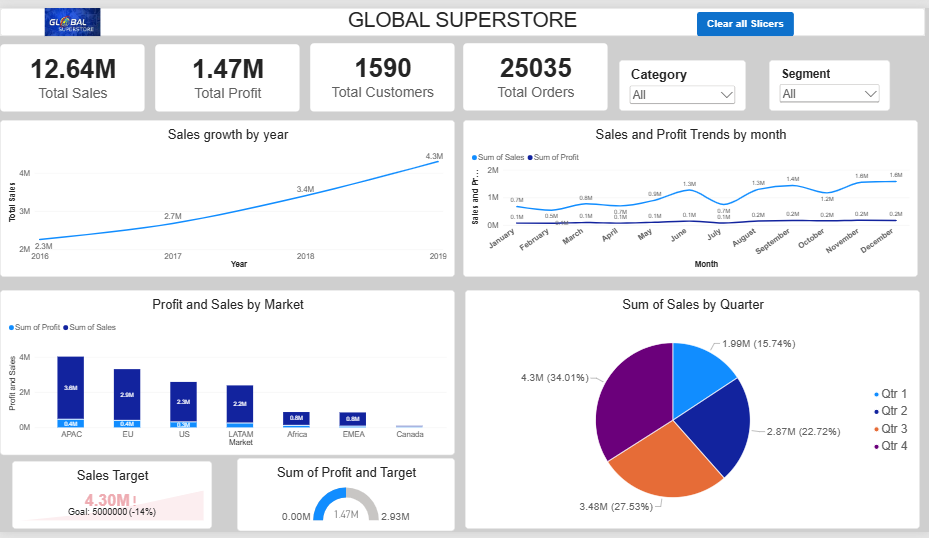

What the dashboard file says about the page in this screenshot:
{"tool":"powerbi","page":{"name":"Page 1","canvas":[1920,1080],"ordinal":0},"visuals":[{"type":"textbox","box":[0,0,1909.7,57.8],"z":0},{"type":"cardVisual","fields":{"Data":["Sum(Orders.Profit)"]},"box":[320,74.3,299.4,140.4],"z":1000},{"type":"cardVisual","fields":{"Data":["Count(Orders.Customer ID)"]},"box":[640,72.3,299.4,142.5],"z":2000},{"type":"cardVisual","fields":{"Data":["Sum(Orders.Sales)"]},"box":[0,74.3,299.4,140.4],"z":3000},{"type":"cardVisual","fields":{"Data":["Count(Orders.Order ID)"]},"box":[955.9,72.3,299.4,140.4],"z":4000},{"type":"lineChart","title":"Sales growth by year","fields":{"Category":["Orders.Order Date.Variation.Date Hierarchy.Year"],"Y":["Sum(Orders.Sales)"]},"box":[0,231.2,939.4,324.1],"z":5000},{"type":"lineChart","title":"Sales and Profit Trends by month","fields":{"Category":["Orders.Order Date.Variation.Date Hierarchy.Month"],"Y":["Sum(Orders.Sales)","Sum(Orders.Profit)"]},"box":[955.9,231.2,939.4,324.1],"z":6000},{"type":"columnChart","title":"Profit and Sales by Market","fields":{"Category":["Orders.Market"],"Y":["Sum(Orders.Profit)","Sum(Orders.Sales)"]},"box":[0,582.2,939.4,340.6],"z":7000},{"type":"pieChart","fields":{"Category":["Orders.Order Date.Variation.Date Hierarchy.Quarter"],"Y":["Sum(Orders.Sales)"]},"box":[960,582.2,939.4,493.4],"z":8000},{"type":"slicer","fields":{"Values":["Orders.Category"]},"box":[1277.9,107.4,262.2,105.3],"z":9000},{"type":"slicer","fields":{"Values":["Orders.Segment"]},"box":[1587.6,107.4,249.8,105.3],"z":10000},{"type":"kpi","title":"Sales Target","fields":{"Goal":["Customer.Target"],"Indicator":["Sum(Orders.Sales)"],"TrendLine":["Orders.Order Date.Variation.Date Hierarchy.Year"]},"box":[24.8,935.2,412.9,140.4],"z":11000},{"type":"image","box":[10.3,0,278.7,57.8],"z":12000},{"type":"gauge","fields":{"TargetValue":["Customer.Target"],"Y":["Sum(Orders.Profit)"]},"box":[489.3,929,450.1,150.7],"z":13000},{"type":"actionButton","box":[1439,8.3,200,50],"z":14000}]}

Visuals, with their boxes in screenshot pixels (x1, y1, x2, y2), scaled from the page's 1920x1080 canvas onto the 929x538 screenshot:
textbox: locate(0, 0, 924, 29)
cardVisual - Sum(Orders.Profit): locate(155, 37, 300, 107)
cardVisual - Count(Orders.Customer ID): locate(310, 36, 455, 107)
cardVisual - Sum(Orders.Sales): locate(0, 37, 145, 107)
cardVisual - Count(Orders.Order ID): locate(463, 36, 607, 106)
"Sales growth by year" lineChart: locate(0, 115, 455, 277)
"Sales and Profit Trends by month" lineChart: locate(463, 115, 917, 277)
"Profit and Sales by Market" columnChart: locate(0, 290, 455, 460)
pieChart - Orders.Order Date.Variation.Date Hierarchy.Quarter x Sum(Orders.Sales): locate(464, 290, 919, 536)
slicer - Orders.Category: locate(618, 54, 745, 106)
slicer - Orders.Segment: locate(768, 54, 889, 106)
"Sales Target" kpi: locate(12, 466, 212, 536)
image: locate(5, 0, 140, 29)
gauge - Customer.Target x Sum(Orders.Profit): locate(237, 463, 455, 537)
actionButton: locate(696, 4, 793, 29)
